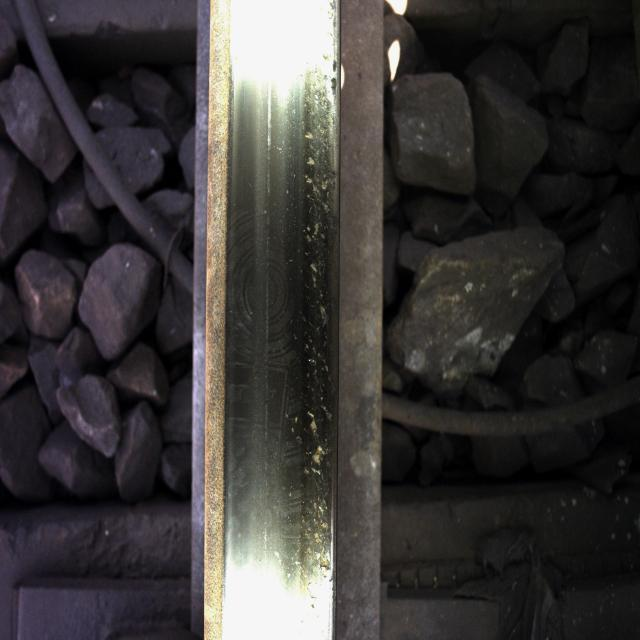scar: (282, 82, 332, 570)
